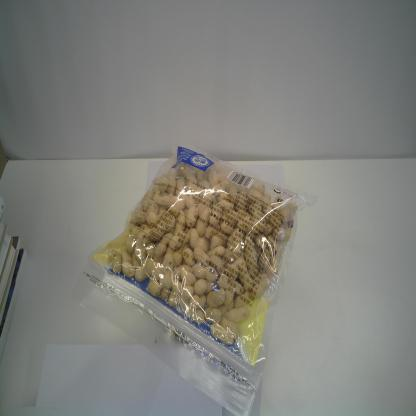Dried Food: (68, 139, 306, 411)
